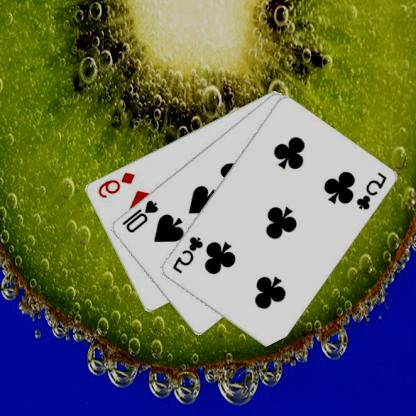10S: (121, 198, 161, 235)
5C: (354, 170, 390, 212), (171, 234, 206, 275)
6D: (96, 169, 138, 200)
